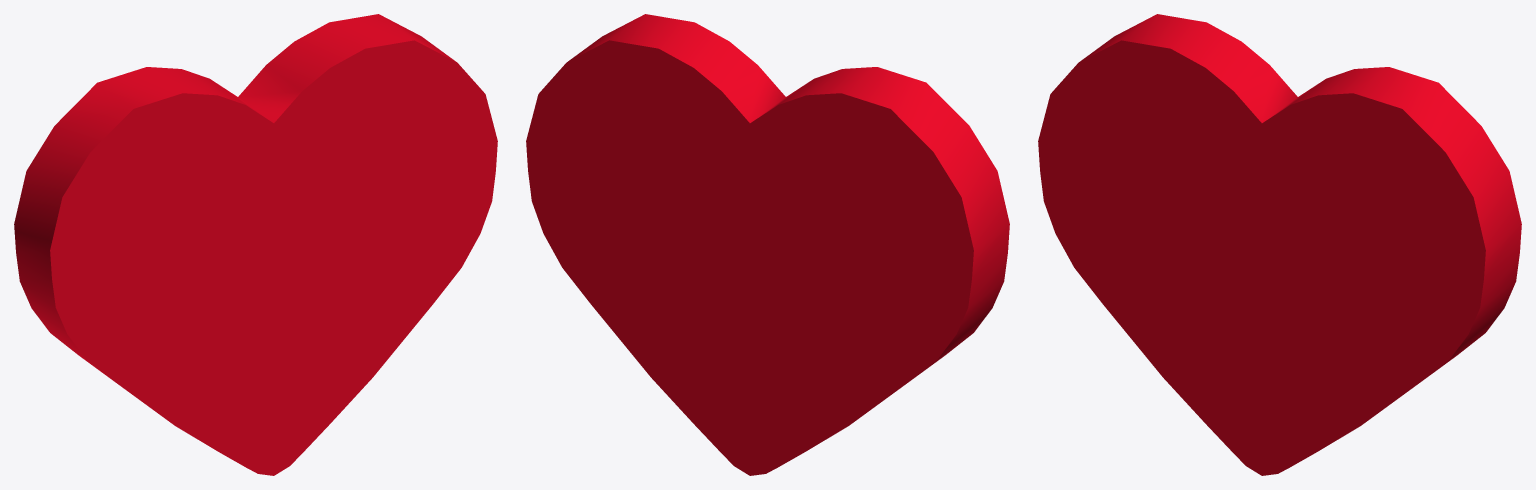
Rendered from heart.glb.
The picture shows the model from 3 angles, left to right: view 1: azimuth 30°, elevation 25°; view 2: azimuth 150°, elevation 25°; view 3: azimuth 330°, elevation 25°; orthographic projection.
Parts seen in each view (by area): view 1: pPlane1; view 2: pPlane1; view 3: pPlane1.
Part boxes in pixels (x1=…): pPlane1: x1=14, y1=14, x2=497, y2=475; pPlane1: x1=526, y1=14, x2=1009, y2=475; pPlane1: x1=1038, y1=14, x2=1521, y2=475.
Size of what is drawn, in the model's own units: 1.05 by 0.9035 by 0.1456.
Materials: 1 (1 with a texture image).
